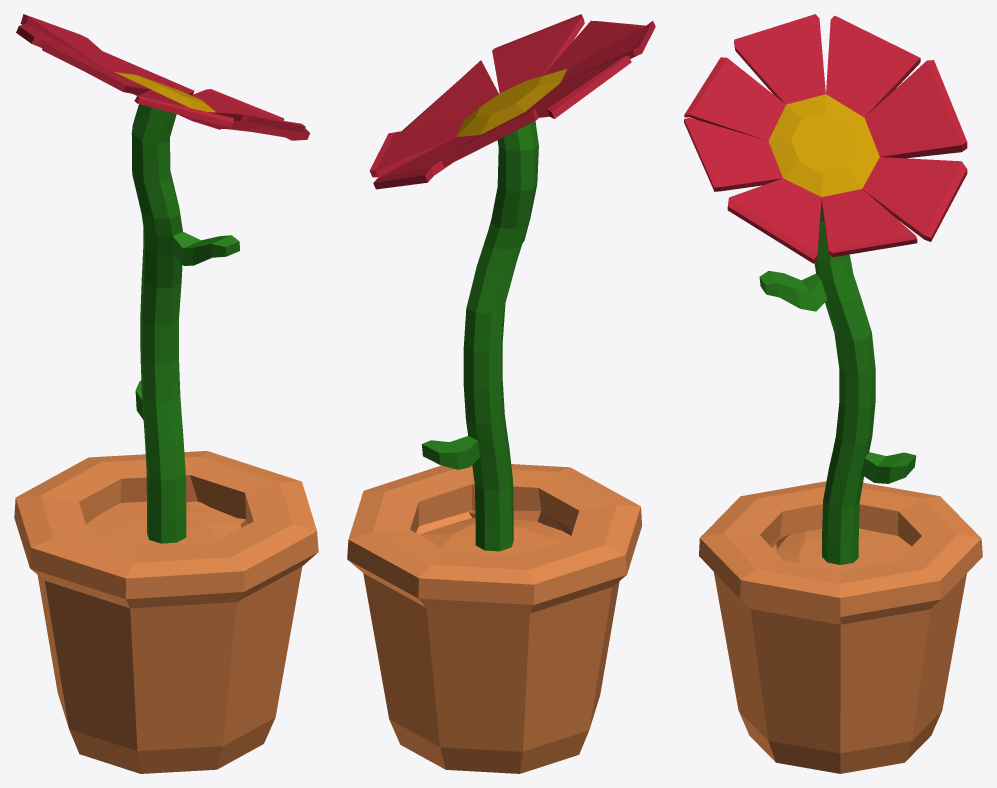
File: flower-pot-red.fbx
The picture shows the model from 3 angles, left to right: view 1: azimuth 30°, elevation 25°; view 2: azimuth 150°, elevation 25°; view 3: azimuth 270°, elevation 25°; orthographic projection. The views are drawn at different scales.
Parts seen in each view (by area): view 1: Circle.002, Circle.001, Circle; view 2: Circle.002, Circle, Circle.001; view 3: Circle.002, Circle, Circle.001.
Boxes of the visible parts, x1,y1,x2,y2 form: Circle.002: (14, 451, 318, 773); Circle.001: (131, 104, 239, 543); Circle: (16, 14, 309, 140); Circle.002: (347, 464, 641, 773); Circle: (369, 14, 655, 189); Circle.001: (421, 121, 538, 551); Circle.002: (699, 481, 982, 773); Circle: (684, 14, 967, 263); Circle.001: (759, 203, 916, 564).
Size of the model in its own units: 156 by 398 by 163.
